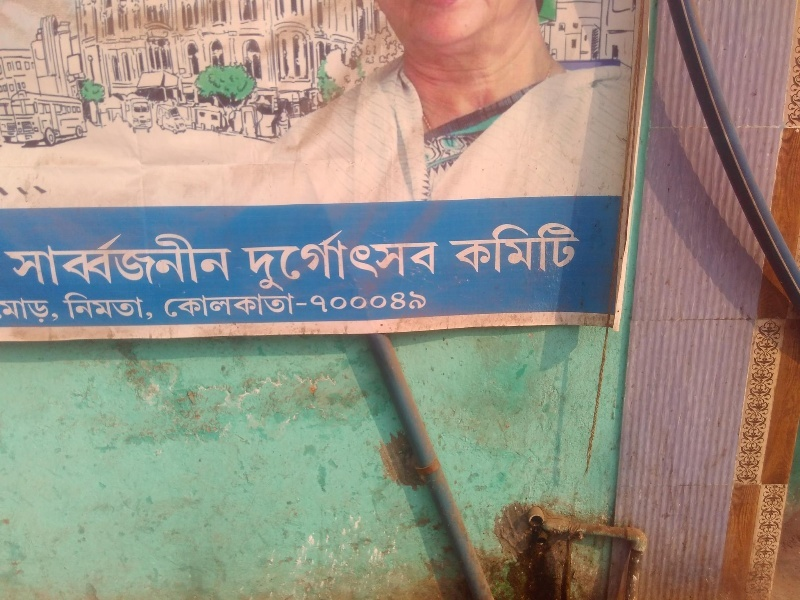text: (241, 226, 256, 294), (257, 226, 272, 294), (273, 226, 288, 294), (289, 226, 304, 294), (305, 226, 320, 294), (321, 226, 336, 294), (337, 226, 352, 294), (353, 226, 368, 294), (369, 226, 384, 294), (385, 226, 400, 294), (401, 226, 416, 294), (417, 226, 432, 294), (449, 219, 464, 277), (465, 219, 480, 277), (481, 219, 496, 277), (497, 219, 512, 277), (513, 219, 528, 277), (529, 219, 544, 277), (545, 219, 560, 277), (561, 219, 576, 277), (17, 234, 32, 289), (33, 234, 48, 289), (49, 234, 64, 289), (65, 234, 80, 289), (81, 234, 96, 289), (97, 234, 112, 289), (113, 234, 128, 289), (129, 234, 144, 289), (145, 234, 160, 289), (161, 234, 176, 289), (177, 234, 192, 289), (193, 234, 208, 289), (209, 234, 224, 289), (2, 234, 16, 289), (225, 234, 235, 289), (65, 292, 80, 320), (81, 292, 96, 320), (97, 292, 112, 320), (113, 292, 128, 320), (129, 292, 144, 320), (433, 226, 439, 294), (1, 298, 16, 325), (17, 298, 32, 325), (33, 298, 48, 325), (177, 293, 192, 319), (193, 293, 208, 319), (209, 293, 224, 319), (225, 293, 240, 319), (241, 293, 256, 319), (257, 293, 272, 319), (273, 293, 288, 319), (289, 293, 304, 319), (321, 290, 336, 315), (337, 290, 352, 315), (353, 290, 368, 315), (369, 290, 384, 315), (385, 290, 400, 315), (401, 290, 416, 315), (49, 298, 61, 325), (165, 293, 176, 319), (309, 290, 320, 315), (417, 290, 428, 315), (145, 292, 154, 320), (577, 219, 581, 277), (61, 292, 64, 320), (305, 293, 308, 319), (239, 226, 240, 294), (447, 219, 448, 277)
